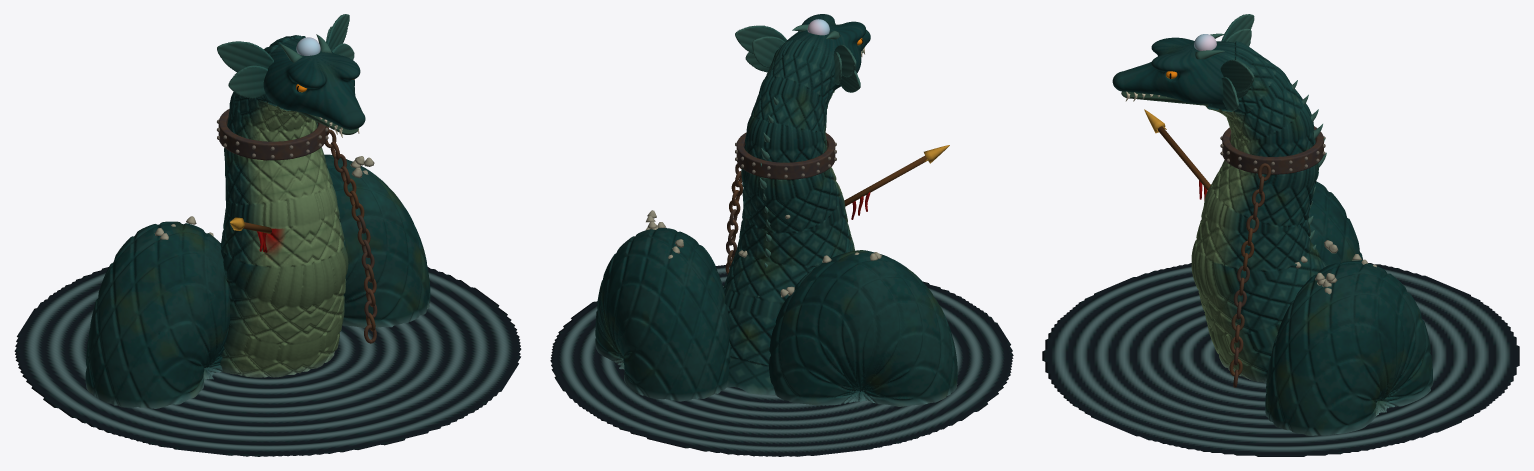
File: blackwater-leviathan-sculpt.glb
3 views of the same model, side by side, from view 1: azimuth 30°, elevation 25°; view 2: azimuth 150°, elevation 25°; view 3: azimuth 270°, elevation 25° (orthographic). The views are drawn at different scales.
Visible parts, largest first — view 1: blackwater-leviathan_sculpt; view 2: blackwater-leviathan_sculpt; view 3: blackwater-leviathan_sculpt.
Boxes of the visible parts, bbox=[...] form: blackwater-leviathan_sculpt: bbox=[14, 14, 521, 456]; blackwater-leviathan_sculpt: bbox=[550, 14, 1013, 456]; blackwater-leviathan_sculpt: bbox=[1042, 14, 1519, 456].
Bounding box in the file's own units: 2.83 × 2.1 × 2.83.
